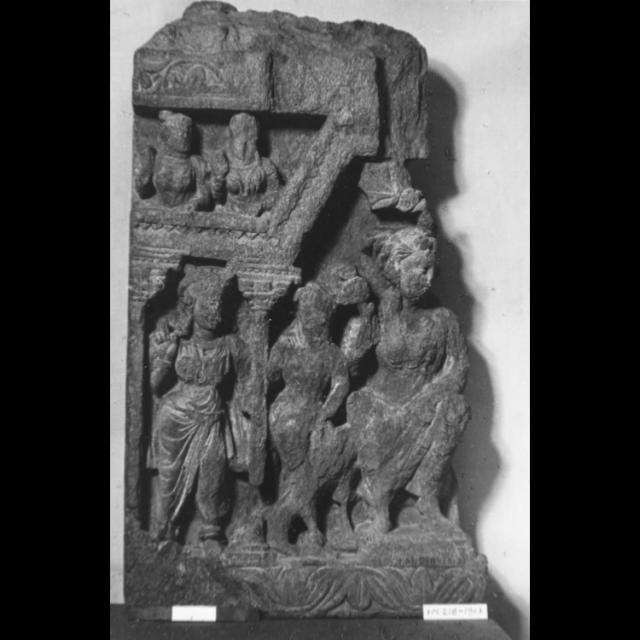buddha-sitting: (188, 112, 280, 232), (132, 110, 214, 230)
buddha-standing: (346, 228, 475, 566)
